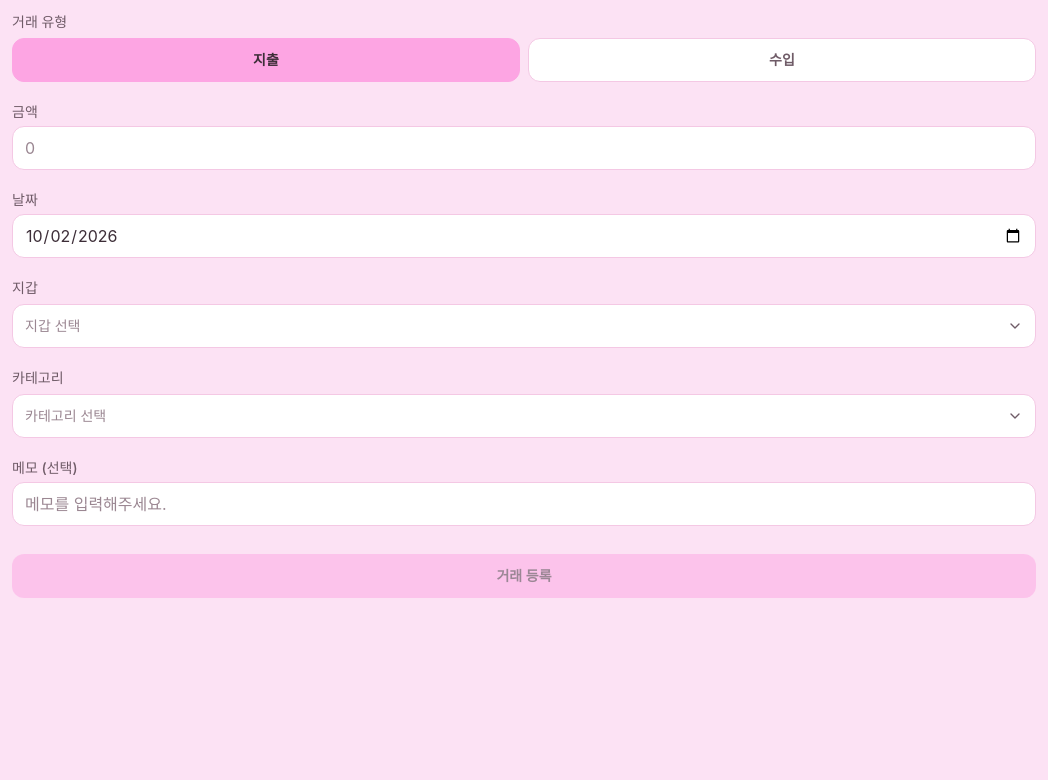
TransactionForm - n월 현금 동일 사용 (#426) › 지갑을 고르기 전에는 체크박스가 없고, 계좌 지출을 고르면 노출된다
This screenshot has width=1048, height=780.
Check: the checkbox labelled "현금 동일 사용" is not shown
What coordinates should you click on to do the following:
click the button "지갑 선택"
I would click on:
 (53, 326)
Its box is [12,304,1036,348].
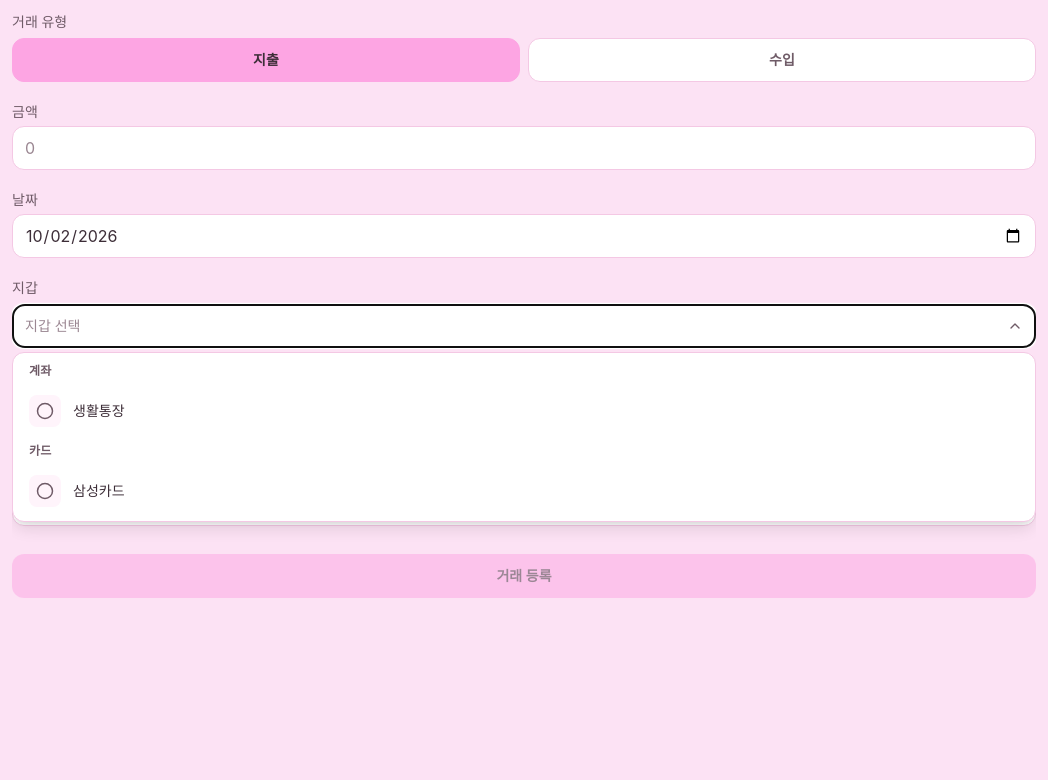
What coordinates should you click on to do the following:
click the button "생활통장"
I would click on:
 (45, 411)
Its box is [13,385,1035,437].
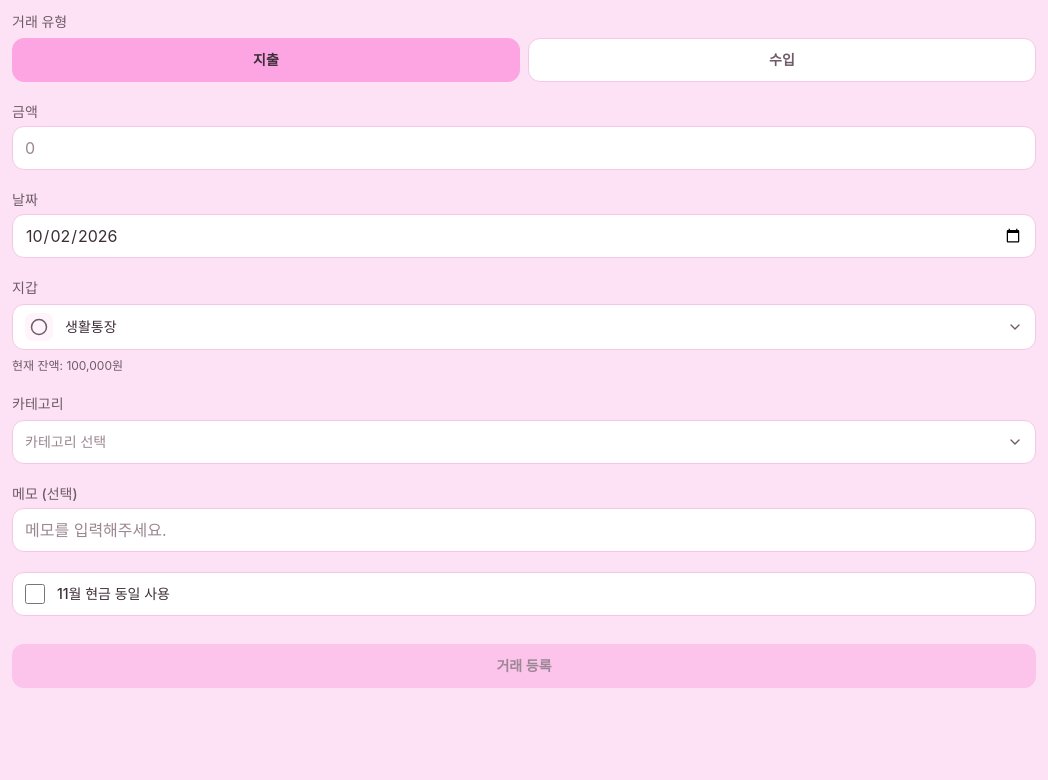
Check: the checkbox labelled "11월 현금 동일 사용" is not checked, box [25,584,45,604]
